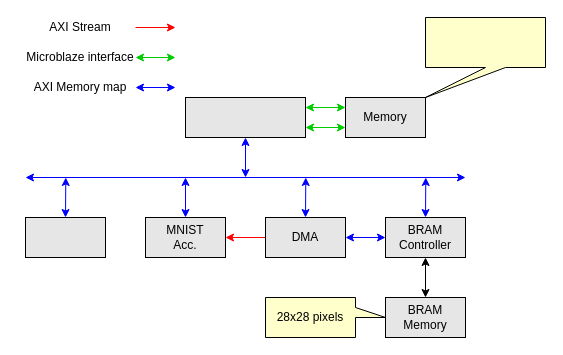
The diagram is 563 pixels wide and 355 high, and some of its shapes have lost their labels. Here are the shapes that lost their labels. From the top down, the centre of each, then its label:
At (485,57): "Main program".
At (245,117): "Microblaze processor".
At (65,237): "UART".
